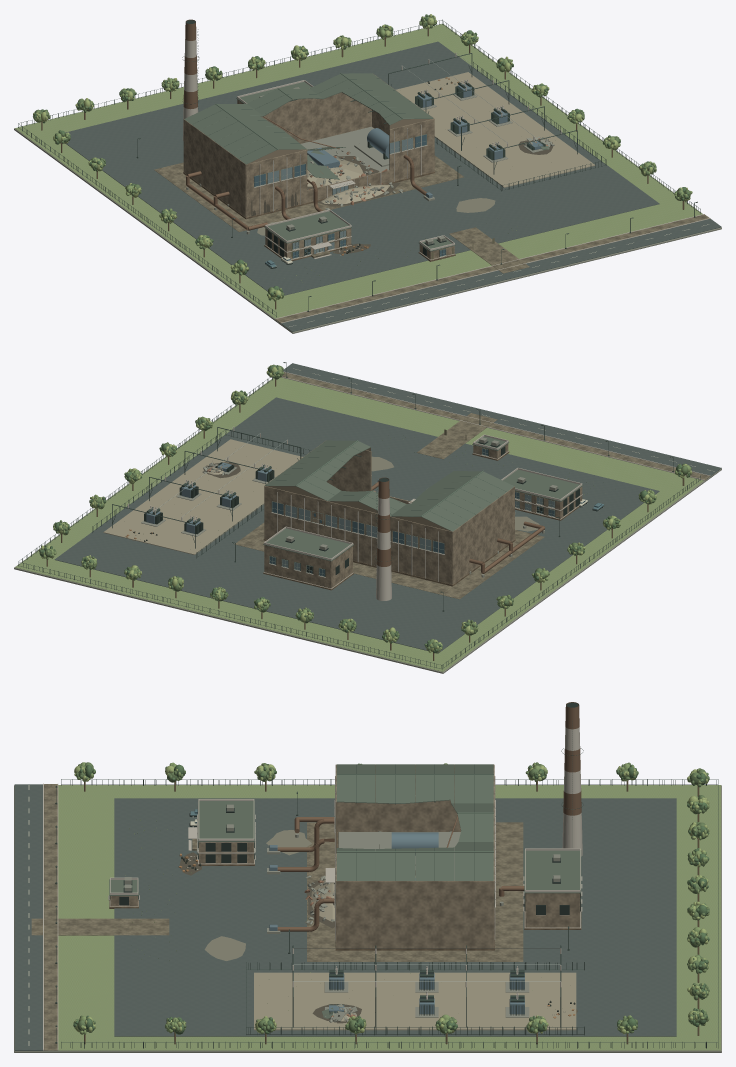
Rendered from power-abandoned.glb.
3 renders of one model, top to bottom at view 1: azimuth 30°, elevation 25°; view 2: azimuth 150°, elevation 25°; view 3: azimuth 270°, elevation 25°, orthographic. The views are drawn at different scales.
Parts seen in each view (by area): view 1: 材质批次_asphalt, 材质批次_grass, 材质批次_limestone, 材质批次_planter_gravel, 材质批次_sage_metal_roof, 材质批次_plaza_paving, 材质批次_street_metal, 材质批次_poi_service_concrete, 材质批次_warm_cream_trim, 材质批次_poi_exposed_rust, 材质批次_leaf_2, 材质批次_leaf_0 (+10 smaller); view 2: 材质批次_asphalt, 材质批次_grass, 材质批次_limestone, 材质批次_sage_metal_roof, 材质批次_planter_gravel, 材质批次_plaza_paving, 材质批次_street_metal, 材质批次_warm_cream_trim, 材质批次_poi_service_concrete, 材质批次_leaf_1, 材质批次_leaf_2, 材质批次_leaf_0 (+9 smaller); view 3: 材质批次_asphalt, 材质批次_grass, 材质批次_limestone, 材质批次_sage_metal_roof, 材质批次_planter_gravel, 材质批次_plaza_paving, 材质批次_street_metal, 材质批次_poi_service_concrete, 材质批次_warm_cream_trim, 材质批次_poi_exposed_rust, 材质批次_leaf_1, 材质批次_leaf_3 (+9 smaller).
Part boxes in pixels (<box>): 材质批次_asphalt: <box>54,41,721,331</box>; 材质批次_grass: <box>15,24,702,318</box>; 材质批次_limestone: <box>183,74,454,259</box>; 材质批次_planter_gravel: <box>307,72,595,203</box>; 材质批次_sage_metal_roof: <box>184,73,549,251</box>; 材质批次_plaza_paving: <box>154,155,709,323</box>; 材质批次_street_metal: <box>18,19,700,317</box>; 材质批次_poi_service_concrete: <box>14,24,721,333</box>; 材质批次_warm_cream_trim: <box>182,39,710,323</box>; 材质批次_poi_exposed_rust: <box>183,19,547,230</box>; 材质批次_leaf_2: <box>33,14,688,300</box>; 材质批次_leaf_0: <box>33,16,692,301</box>; 材质批次_asphalt: <box>54,363,721,653</box>; 材质批次_grass: <box>15,377,703,671</box>; 材质批次_limestone: <box>264,441,582,588</box>; 材质批次_sage_metal_roof: <box>224,436,583,561</box>; 材质批次_planter_gravel: <box>103,439,302,554</box>; 材质批次_plaza_paving: <box>234,372,710,599</box>; 材质批次_street_metal: <box>18,362,700,669</box>; 材质批次_warm_cream_trim: <box>127,371,710,600</box>; 材质批次_poi_service_concrete: <box>14,379,721,673</box>; 材质批次_leaf_1: <box>39,364,689,652</box>; 材质批次_leaf_2: <box>40,365,692,652</box>; 材质批次_leaf_0: <box>38,366,691,653</box>; 材质批次_asphalt: <box>14,784,676,1050</box>; 材质批次_grass: <box>58,785,720,1050</box>; 材质批次_limestone: <box>110,764,580,948</box>; 材质批次_sage_metal_roof: <box>109,764,581,1018</box>; 材质批次_planter_gravel: <box>254,876,576,1030</box>; 材质批次_plaza_paving: <box>31,784,523,1050</box>; 材质批次_street_metal: <box>55,721,718,1048</box>; 材质批次_poi_service_concrete: <box>14,785,721,1052</box>; 材质批次_warm_cream_trim: <box>43,727,582,1050</box>; 材质批次_poi_exposed_rust: <box>277,702,581,1011</box>; 材质批次_leaf_1: <box>73,762,709,1033</box>; 材质批次_leaf_3: <box>73,763,709,1034</box>.
Size of the model in its own units: 160 by 43.6 by 180.
35 materials, 5 textured.
